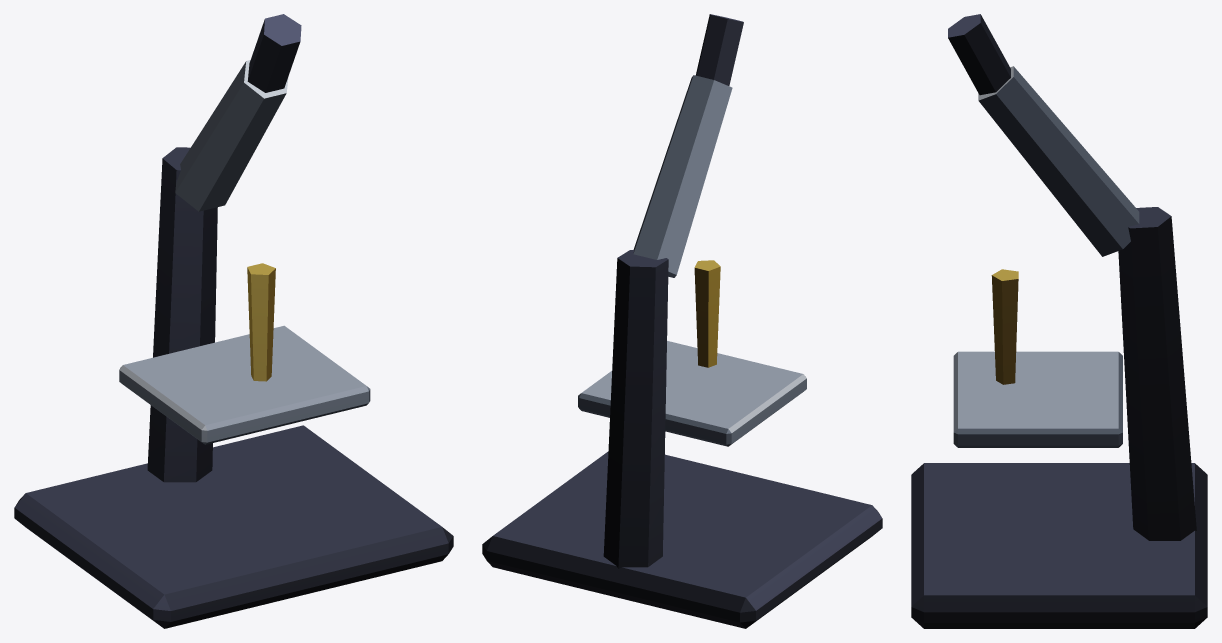
File: microscope.glb
The picture shows the model from 3 angles, left to right: view 1: azimuth 30°, elevation 25°; view 2: azimuth 150°, elevation 25°; view 3: azimuth 270°, elevation 25°; orthographic projection. The views are drawn at different scales.
Visible parts, largest first — view 1: microscope; view 2: microscope; view 3: microscope.
Boxes of the visible parts, x1=… form: microscope: x1=14, y1=14, x2=453, y2=628; microscope: x1=482, y1=14, x2=882, y2=628; microscope: x1=911, y1=14, x2=1207, y2=628.
Size of the model in its own units: 0.32 by 0.5677 by 0.28.
